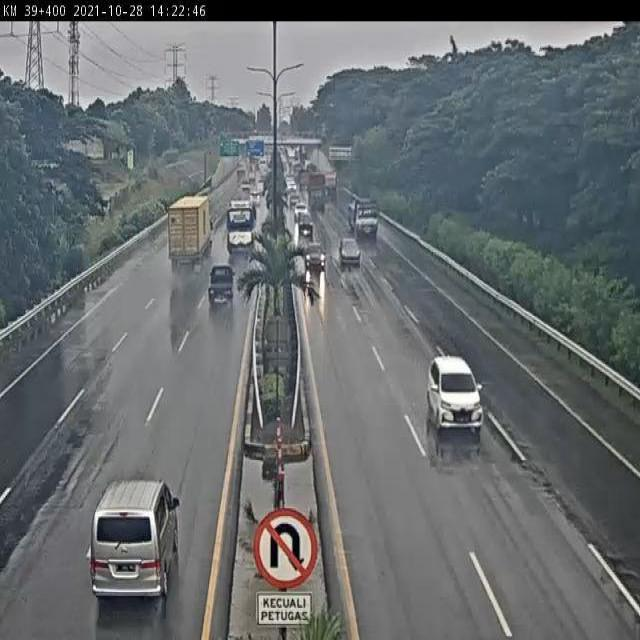big bus: (222, 198, 258, 254)
big truck: (161, 191, 209, 260), (348, 201, 383, 244), (307, 173, 328, 212)
car: (84, 459, 188, 613), (424, 346, 486, 446), (207, 261, 237, 307), (338, 236, 364, 273), (301, 242, 328, 274), (297, 217, 317, 240), (251, 188, 267, 207), (284, 176, 299, 196), (292, 196, 307, 216)
